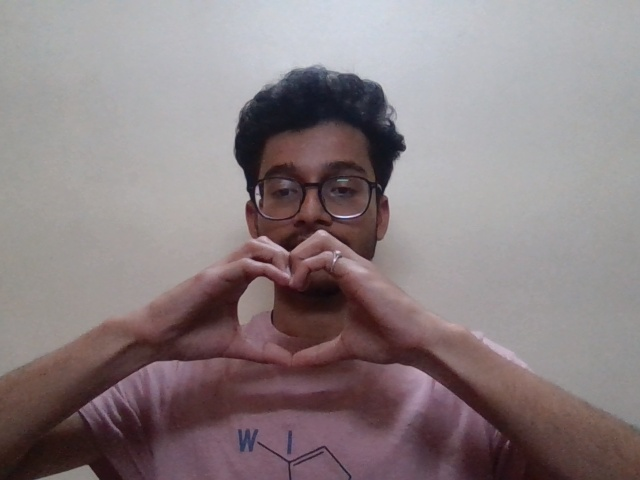silent-voice: (154, 226, 418, 388)
